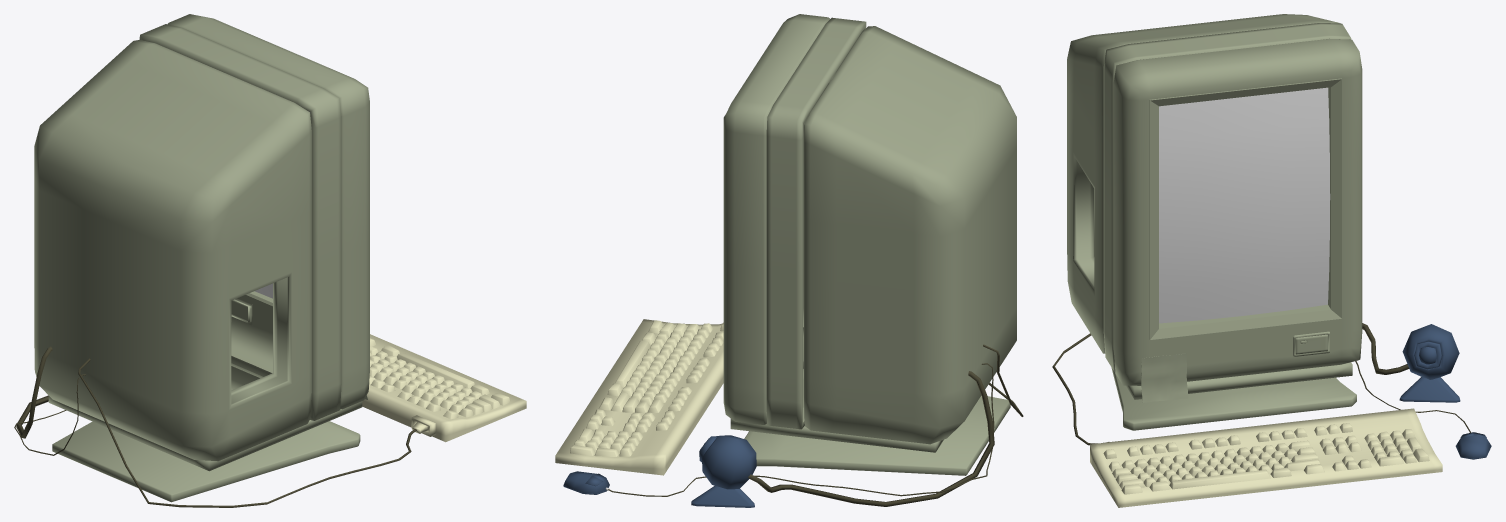
3 views of the same model, side by side, from view 1: azimuth 30°, elevation 25°; view 2: azimuth 150°, elevation 25°; view 3: azimuth 270°, elevation 25° (orthographic).
Visible parts, largest first — view 1: Cube.013, Cube.002, Cube.012, Cube.003, Cube.009, Plane, Cube.010, BézierCurve.002, BézierCurve; view 2: Cube.013, Cube.002, Cube.012, Cube.009, Plane, Cube.003, Cube.014, BézierCurve, Cube.010, Cube.016, BézierCurve.001, Cube.024; view 3: Cube.011, Cube.002, Cube.013, Plane, Cube.009, Cube.008, Cube.012, Cube.003, Cube.010, Plane.004, Cube.014, Cube.016 (+2 smaller).
Boxes of the visible parts, x1,y1,x2,y2 form: Cube.013: (34,40,311,461); Cube.002: (168,14,369,409); Cube.012: (139,24,341,420); Cube.003: (52,421,360,502); Cube.009: (369,338,510,419); Plane: (362,334,526,442); Cube.010: (48,396,362,471); BézierCurve.002: (78,358,416,507); BézierCurve: (16,346,52,438); Cube.013: (803,26,1016,444); Cube.002: (723,14,831,424); Cube.012: (766,17,866,429); Cube.009: (570,320,723,456); Plane: (555,319,723,475); Cube.003: (744,395,1010,475); Cube.014: (702,435,756,489); BézierCurve: (748,371,994,506); Cube.010: (730,327,943,452); Cube.016: (691,486,754,507); BézierCurve.001: (608,363,994,496); Cube.024: (563,471,609,493); Cube.011: (1159,87,1330,323); Cube.002: (1113,38,1362,385); Cube.013: (1067,14,1339,353); Plane: (1090,408,1442,507); Cube.009: (1103,423,1429,494); Cube.008: (1149,78,1341,339); Cube.012: (1103,23,1351,371); Cube.003: (1111,367,1356,430); Cube.010: (1126,362,1352,399); Plane.004: (1141,353,1188,402); Cube.014: (1402,324,1459,379); Cube.016: (1399,377,1460,402).
Size of the model in its own units: 69.27 by 56.12 by 62.59.
